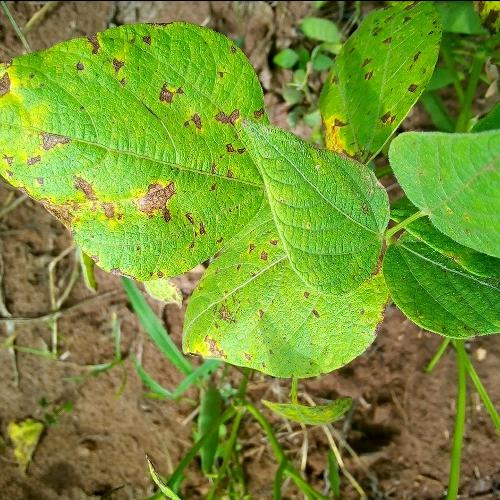hawar: (34, 178, 114, 244), (19, 113, 80, 176), (74, 32, 135, 91), (200, 134, 250, 197), (128, 166, 180, 224), (205, 285, 252, 330), (177, 213, 220, 250), (142, 74, 189, 106), (243, 234, 275, 272), (214, 97, 246, 133), (200, 332, 242, 356), (180, 108, 212, 133)
mozaik: (278, 147, 368, 266)
